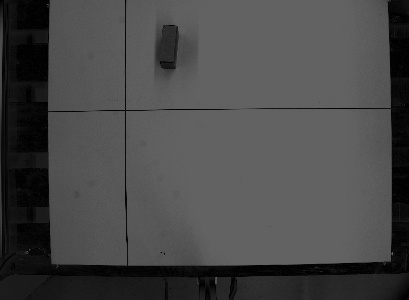b1: (157, 23, 181, 71)
